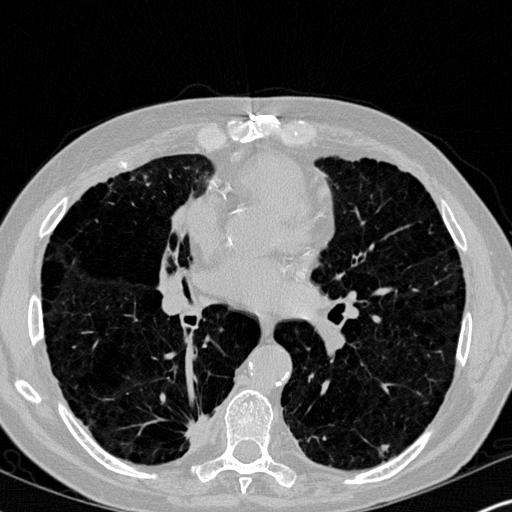nodule: (379, 442, 391, 454)
